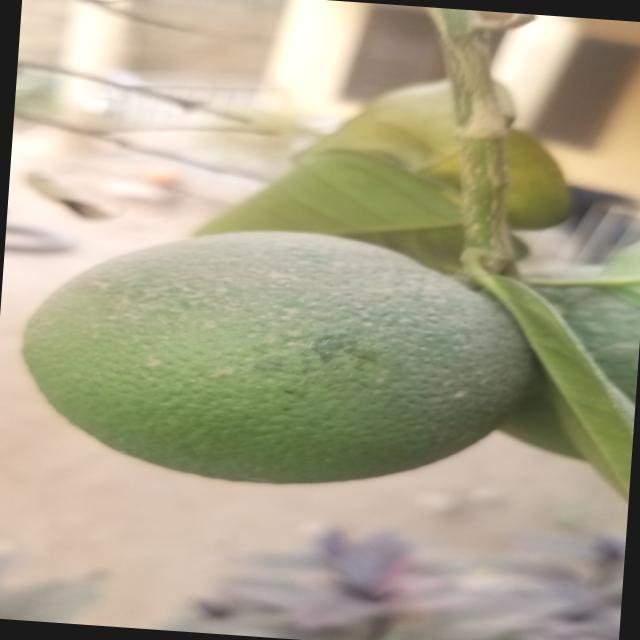Unripe: (6, 212, 541, 499)
